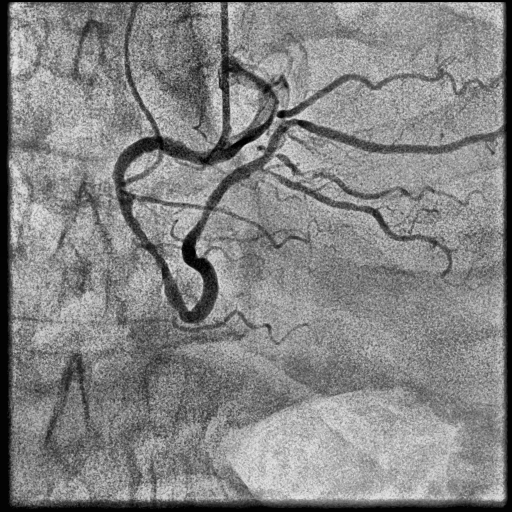pborca: (259, 119, 487, 166)
pda: (259, 168, 471, 287)
rca: (113, 135, 264, 323)
